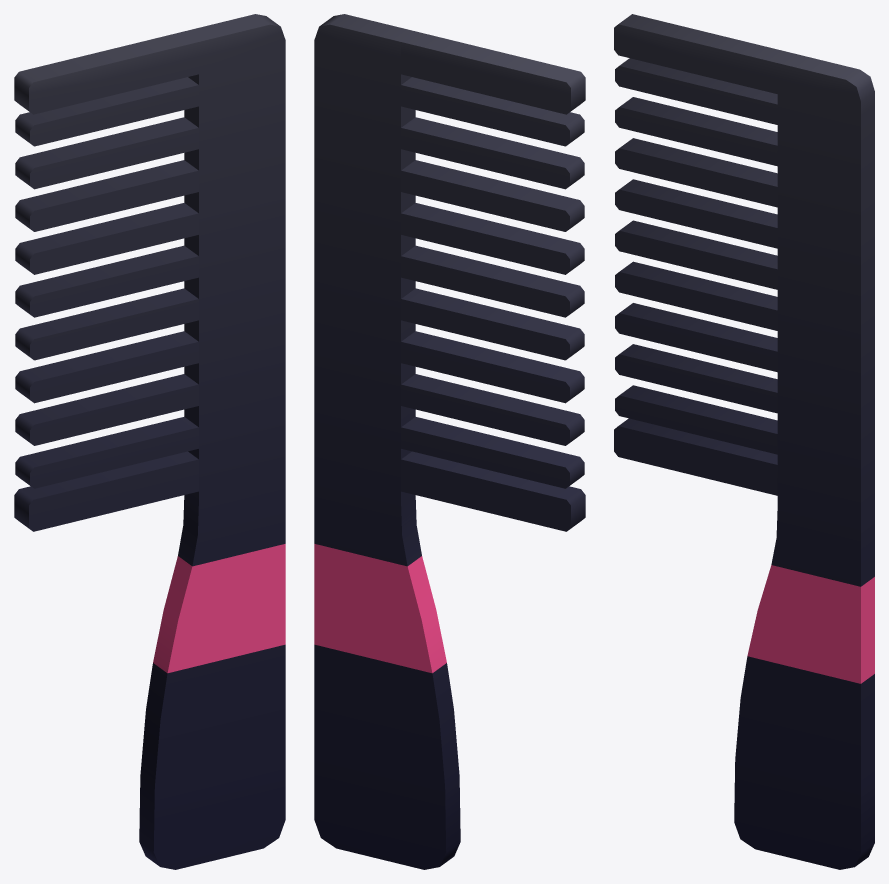
The model's file is Comb_01.fbx.
The picture shows the model from 3 angles, left to right: view 1: azimuth 30°, elevation 25°; view 2: azimuth 150°, elevation 25°; view 3: azimuth 330°, elevation 25°; orthographic projection. The views are drawn at different scales.
Visible parts, largest first — view 1: Comb_01; view 2: Comb_01; view 3: Comb_01.
Part boxes in pixels (x1,y1,x2,y2): Comb_01: (14,14,285,869); Comb_01: (314,14,585,869); Comb_01: (614,14,874,869).
Bounding box in the file's own units: 0.0565 × 0.1731 × 0.00554.
Materials: 1 (1 with a texture image).
